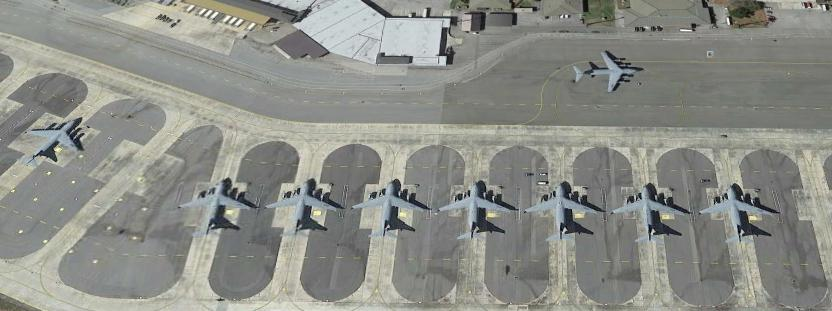C-17: (608, 179, 689, 248), (698, 184, 777, 248), (268, 176, 341, 244), (350, 176, 424, 239), (182, 174, 250, 239), (528, 183, 599, 245), (437, 181, 508, 242), (565, 48, 646, 96), (21, 113, 88, 164)
